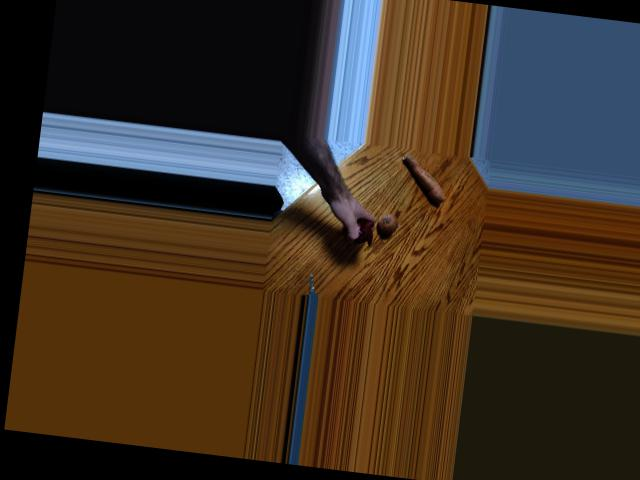onion: (370, 204, 398, 232)
